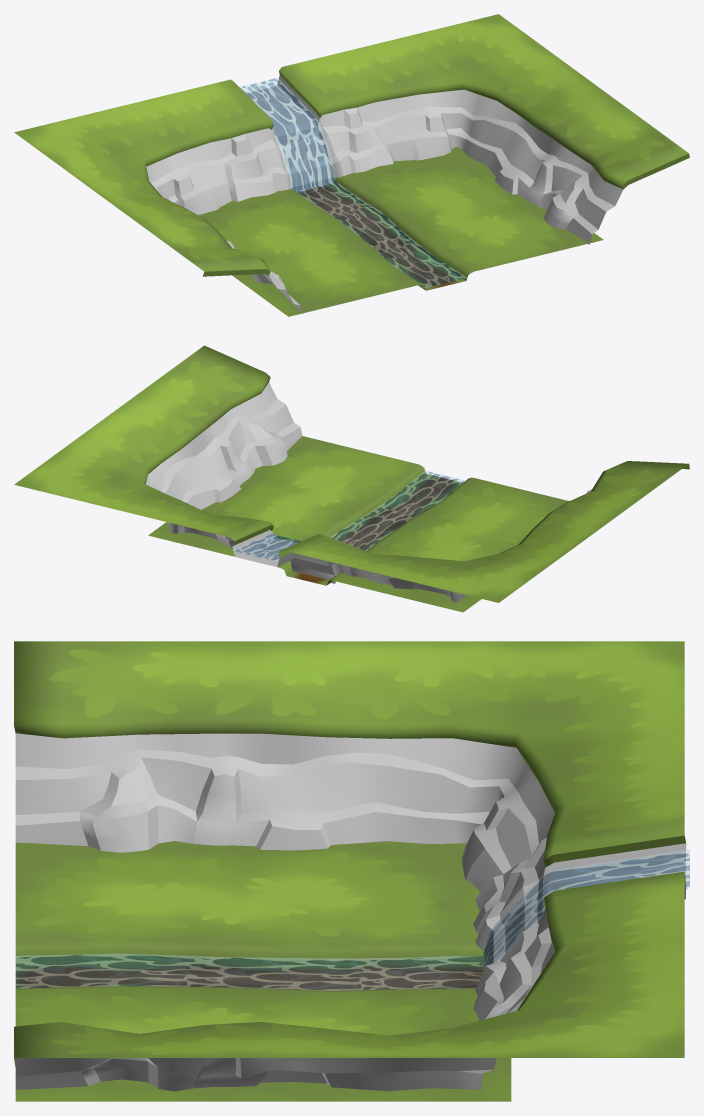
The model's file is valley.fbx.
3 views of the same model, one above another, from view 1: azimuth 30°, elevation 25°; view 2: azimuth 150°, elevation 25°; view 3: azimuth 270°, elevation 25° (orthographic). The views are drawn at different scales.
Visible parts, largest first — view 1: grass, walls, river; view 2: grass, walls, river; view 3: grass, walls, river.
Part boxes in pixels (x1,y1,x2,y2): grass: [14, 14, 689, 316]; walls: [146, 75, 623, 314]; river: [240, 77, 466, 287]; grass: [14, 345, 689, 612]; walls: [146, 382, 591, 602]; river: [233, 470, 465, 574]; grass: [14, 641, 686, 1101]; walls: [15, 733, 686, 1091]; river: [16, 849, 689, 990].
Bounding box in the file's own units: 3400 × 508 × 2318.
